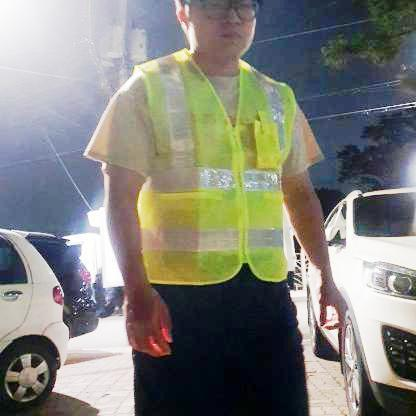vest: (125, 50, 304, 285)
